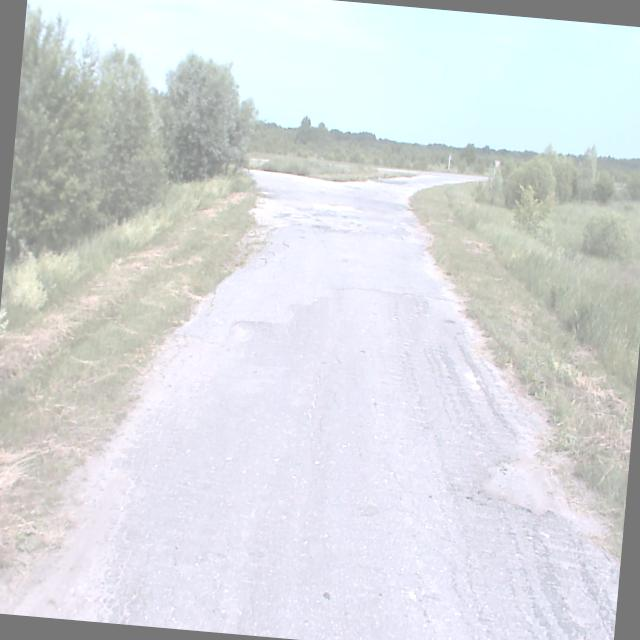road: (91, 169, 619, 640)
